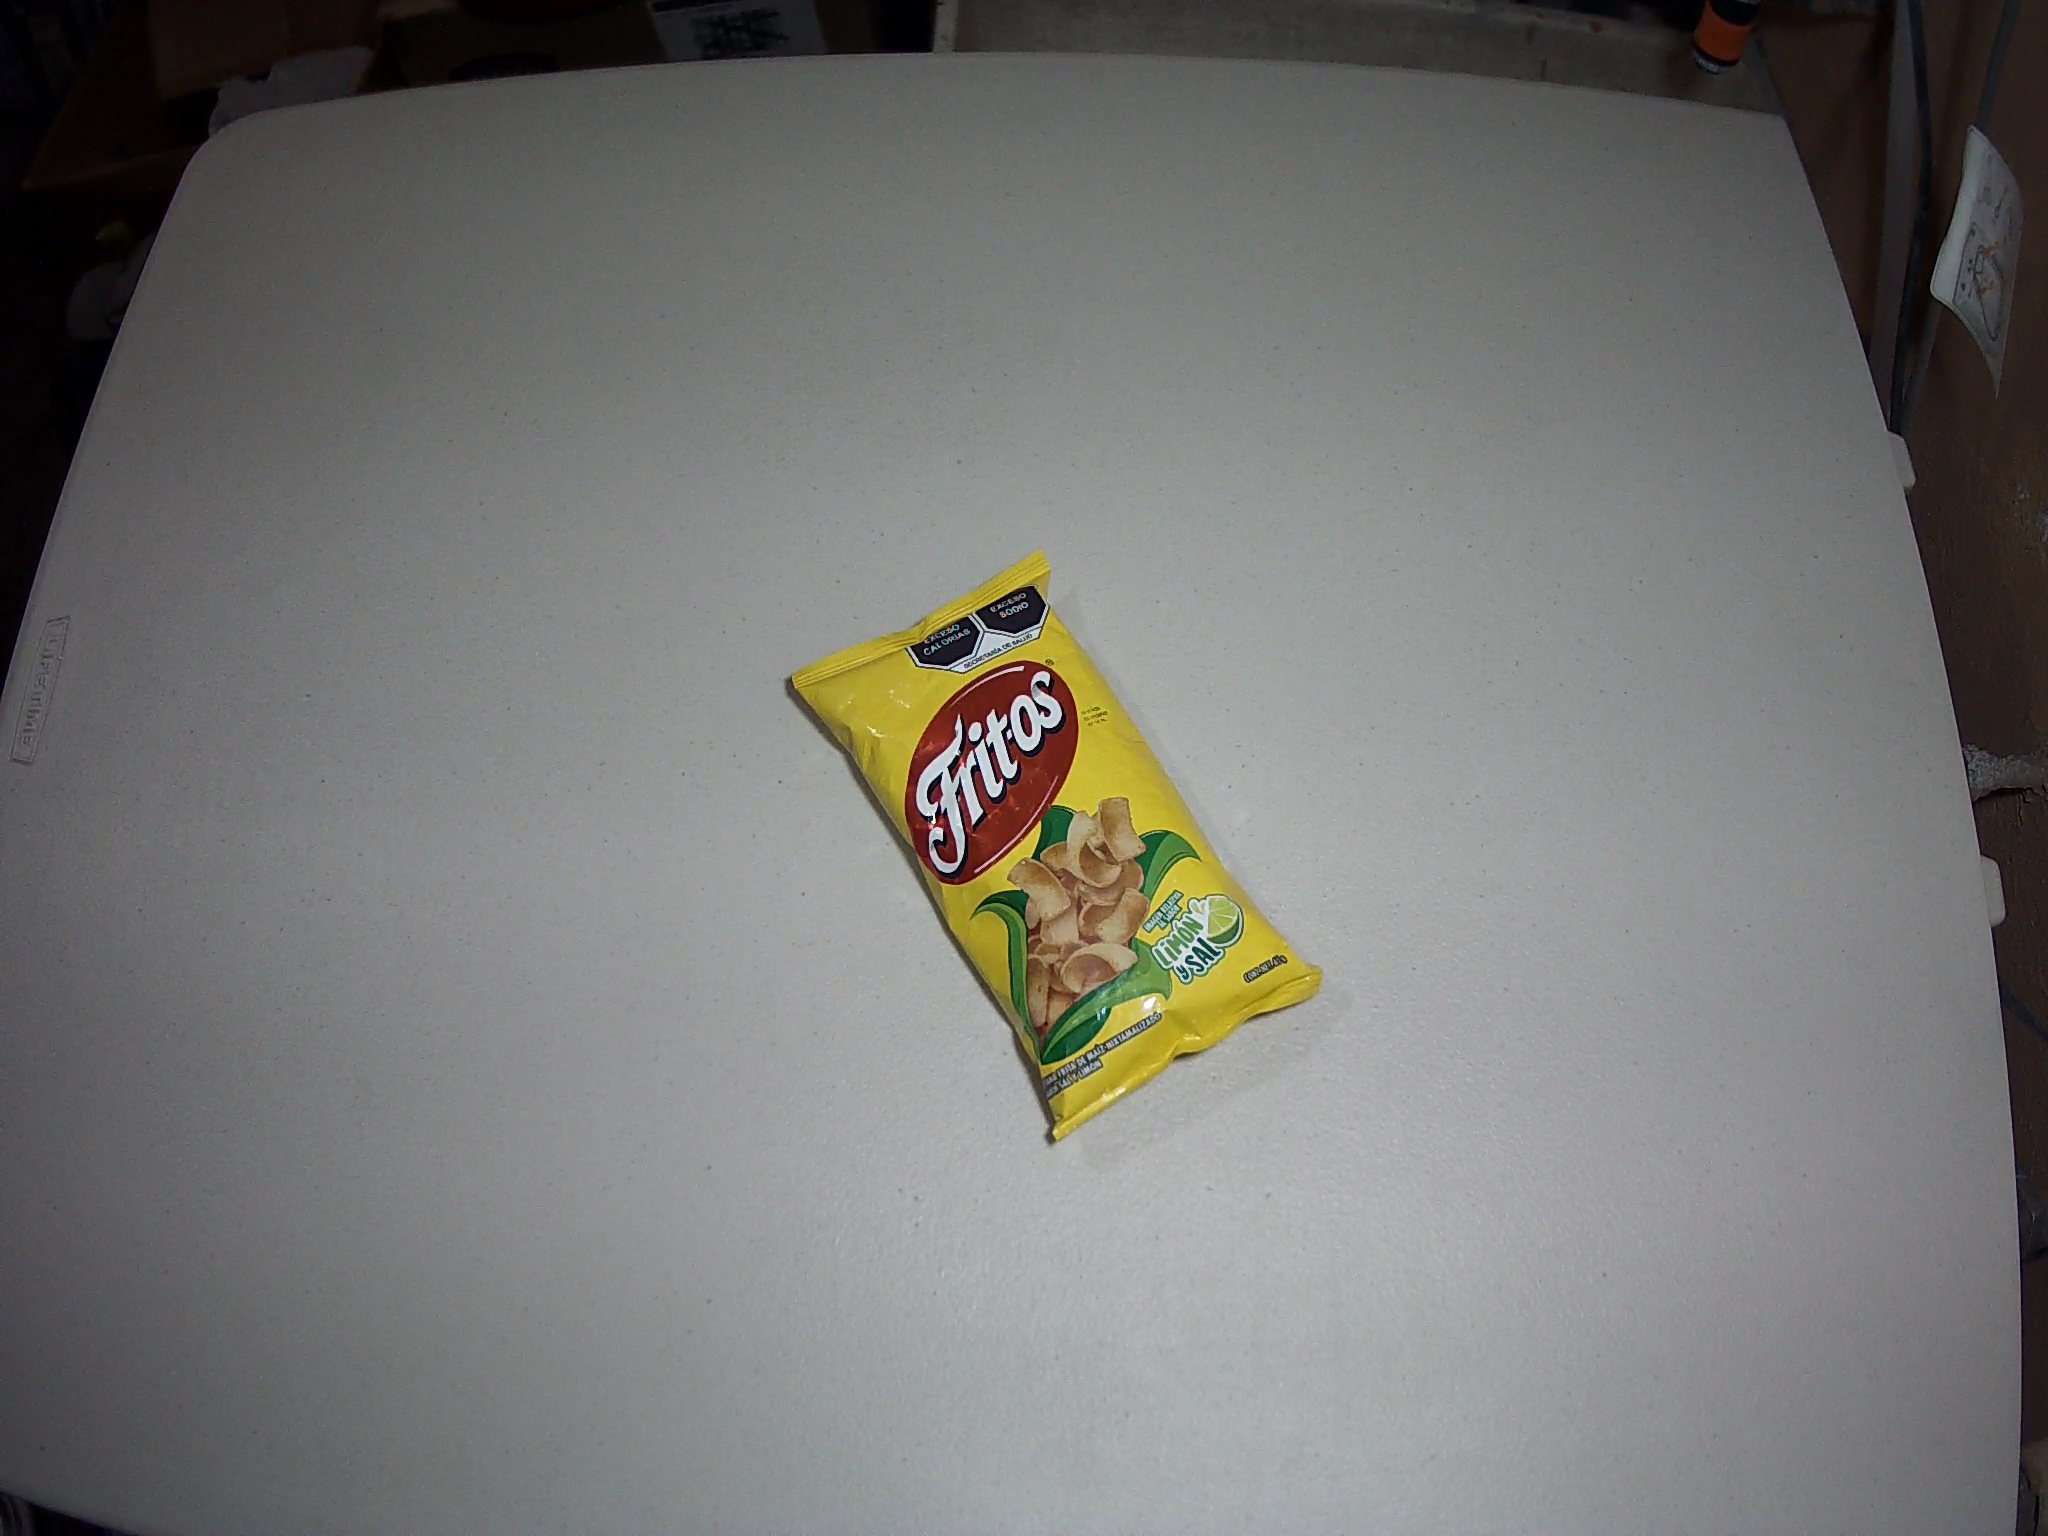FritosSalLimon_65_F: (789, 549, 1326, 1144)
